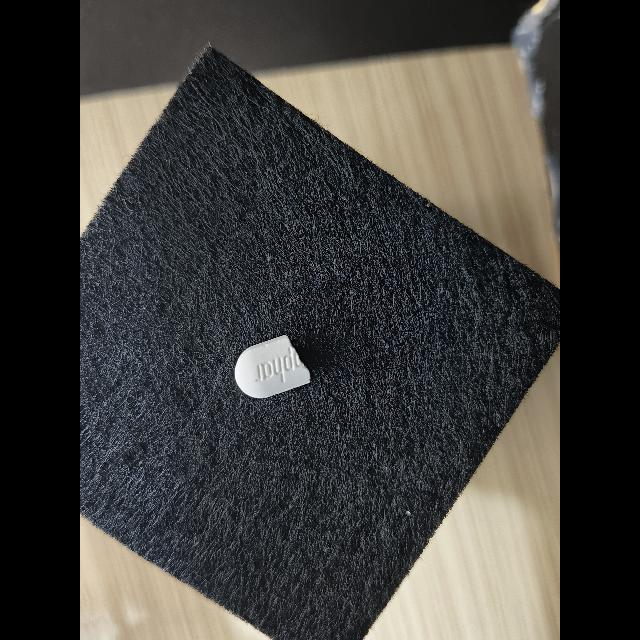Chipped Pill: (235, 335, 311, 399)
